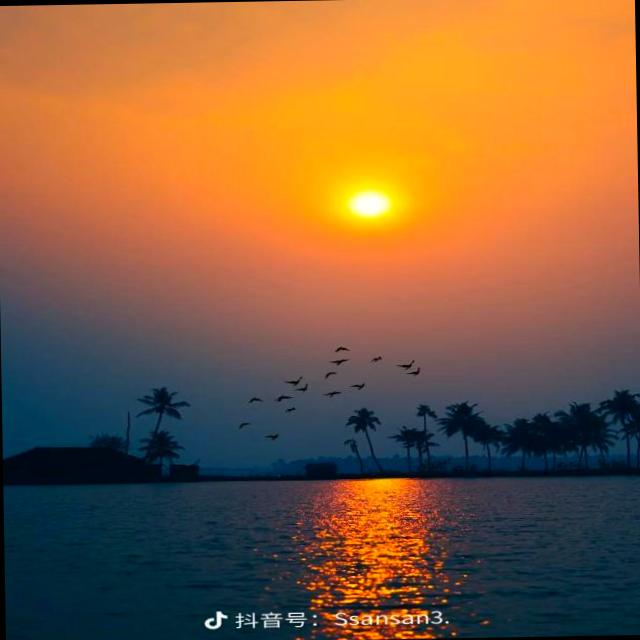bird: (408, 367, 427, 379), (282, 374, 302, 385), (272, 392, 292, 403), (265, 432, 287, 442), (398, 358, 416, 370), (350, 382, 370, 392), (245, 394, 265, 404), (293, 384, 312, 394), (327, 358, 350, 366), (320, 390, 342, 398), (334, 343, 351, 353), (282, 406, 300, 415), (369, 354, 383, 364), (238, 421, 252, 431), (322, 371, 338, 379)
